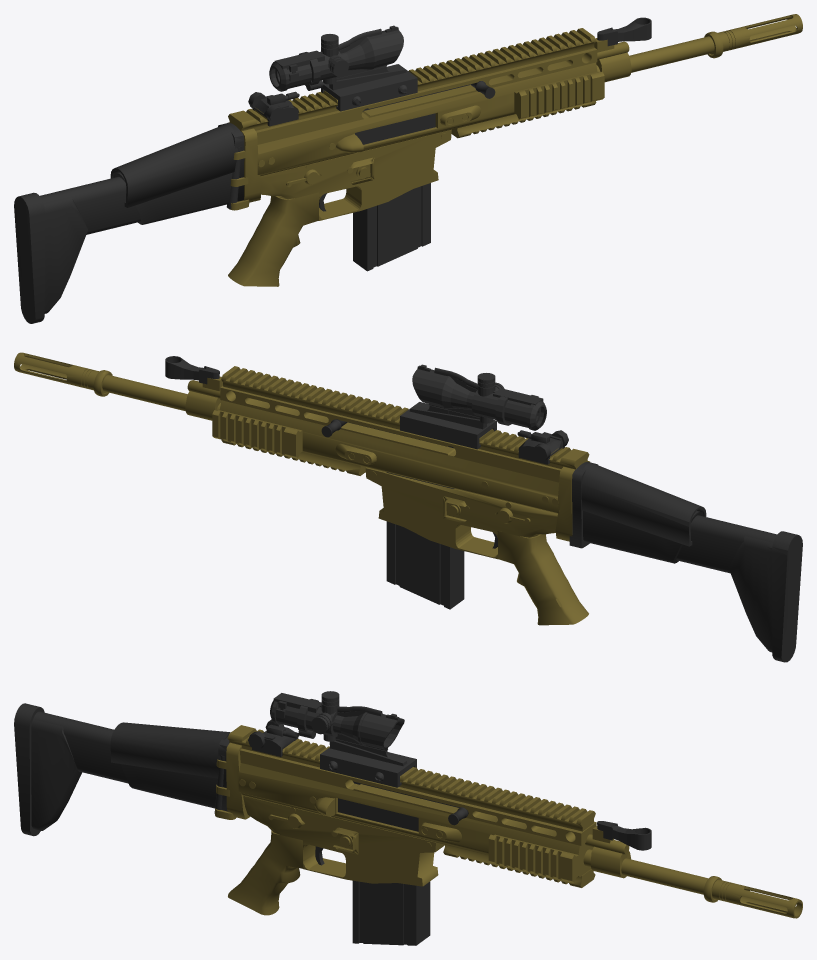
Rendered from scarLFBX.FBX.
3 views of the same model, one above another, from view 1: azimuth 30°, elevation 25°; view 2: azimuth 150°, elevation 25°; view 3: azimuth 330°, elevation 25° (orthographic).
Parts seen in each view (by area): view 1: scar-h, scar-h_stock, scar-h_TA31RCO, scar-h_mag, scar-h_bolt, scar-h_rear sight base, scar-h_front sight; view 2: scar-h, scar-h_stock, scar-h_TA31RCO, scar-h_mag, scar-h_rear sight base, scar-h_front sight; view 3: scar-h, scar-h_stock, scar-h_TA31RCO, scar-h_mag, scar-h_bolt, scar-h_front sight, scar-h_rear sight base.
Boxes of the visible parts, left/top/right/bottom form: scar-h: left=228, top=14, right=802, bottom=286; scar-h_stock: left=14, top=122, right=244, bottom=323; scar-h_TA31RCO: left=269, top=25, right=417, bottom=111; scar-h_mag: left=353, top=183, right=430, bottom=271; scar-h_bolt: left=355, top=61, right=495, bottom=144; scar-h_rear sight base: left=248, top=92, right=298, bottom=126; scar-h_front sight: left=597, top=17, right=651, bottom=46; scar-h: left=14, top=352, right=589, bottom=625; scar-h_stock: left=569, top=462, right=802, bottom=662; scar-h_TA31RCO: left=400, top=364, right=546, bottom=449; scar-h_mag: left=386, top=472, right=464, bottom=609; scar-h_rear sight base: left=518, top=430, right=568, bottom=464; scar-h_front sight: left=165, top=356, right=219, bottom=384; scar-h: left=215, top=725, right=802, bottom=918; scar-h_stock: left=14, top=703, right=230, bottom=836; scar-h_TA31RCO: left=270, top=691, right=416, bottom=787; scar-h_mag: left=352, top=880, right=430, bottom=945; scar-h_bolt: left=338, top=781, right=468, bottom=831; scar-h_front sight: left=597, top=821, right=651, bottom=850; scar-h_rear sight base: left=248, top=719, right=298, bottom=756.
Size of the model in its own units: 34.22 by 9.92 by 2.87.
